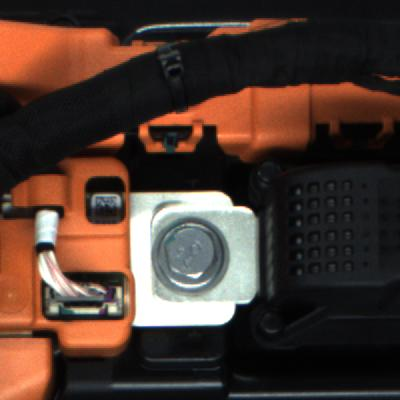nut_b: (150, 213, 231, 295)
